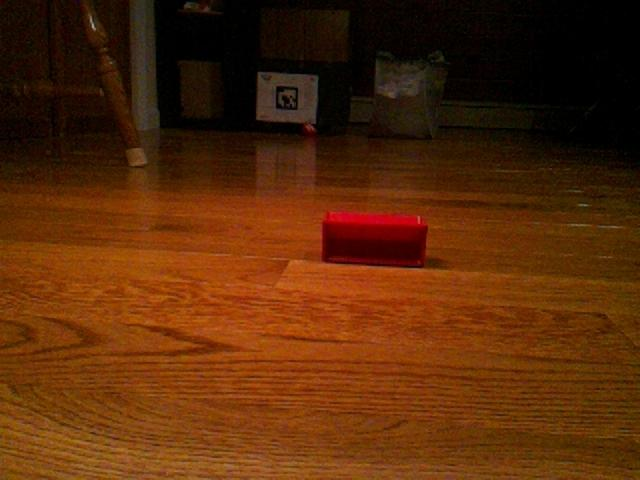red: (320, 210, 429, 269)
